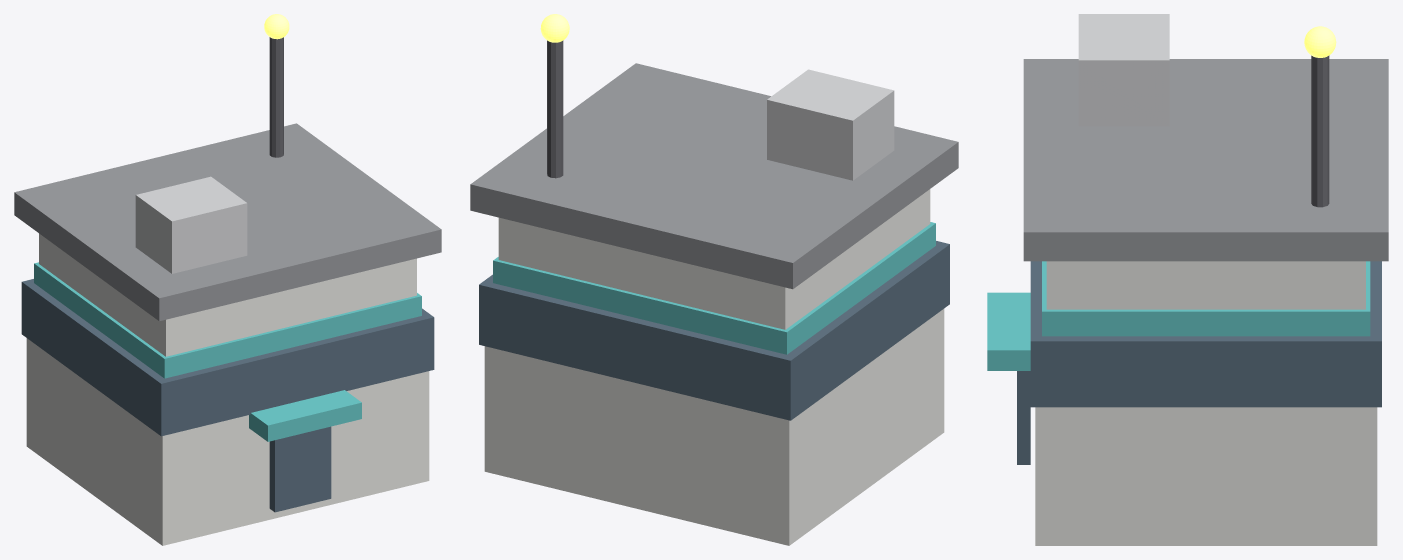
Rendered from rd_lab.glb.
3 renders of one model, left to right at view 1: azimuth 30°, elevation 25°; view 2: azimuth 150°, elevation 25°; view 3: azimuth 270°, elevation 25°, orthographic. The views are drawn at different scales.
Visible parts, largest first — view 1: roof, base, glassband, upper, stripe, acbox, door, canopy, antenna, beacon; view 2: base, roof, glassband, upper, stripe, acbox, antenna, beacon; view 3: roof, base, glassband, upper, acbox, stripe, canopy, antenna, door, beacon.
Part boxes in pixels (x1=…): roof: x1=14, y1=123, x2=441, y2=321; base: x1=26, y1=338, x2=429, y2=545; glassband: x1=21, y1=279, x2=434, y2=436; upper: x1=39, y1=233, x2=416, y2=356; stripe: x1=34, y1=262, x2=421, y2=378; acbox: x1=135, y1=176, x2=247, y2=273; door: x1=269, y1=426, x2=331, y2=512; canopy: x1=249, y1=390, x2=361, y2=441; antenna: x1=269, y1=37, x2=283, y2=157; beacon: x1=264, y1=14, x2=289, y2=39; base: x1=484, y1=309, x2=944, y2=545; roof: x1=470, y1=63, x2=958, y2=289; glassband: x1=479, y1=241, x2=949, y2=420; upper: x1=498, y1=189, x2=930, y2=329; stripe: x1=493, y1=222, x2=935, y2=354; acbox: x1=767, y1=69, x2=894, y2=180; antenna: x1=547, y1=40, x2=563, y2=178; beacon: x1=540, y1=14, x2=569, y2=42; roof: x1=1023, y1=59, x2=1388, y2=261; base: x1=1035, y1=407, x2=1377, y2=545; glassband: x1=1030, y1=261, x2=1381, y2=407; upper: x1=1046, y1=261, x2=1365, y2=309; acbox: x1=1078, y1=14, x2=1169, y2=126; stripe: x1=1042, y1=261, x2=1370, y2=336; canopy: x1=987, y1=292, x2=1030, y2=370; antenna: x1=1311, y1=55, x2=1329, y2=207; door: x1=1017, y1=371, x2=1030, y2=464; beacon: x1=1304, y1=26, x2=1336, y2=57.
Size of the model in its own units: 0.9 by 1.19 by 0.88.
